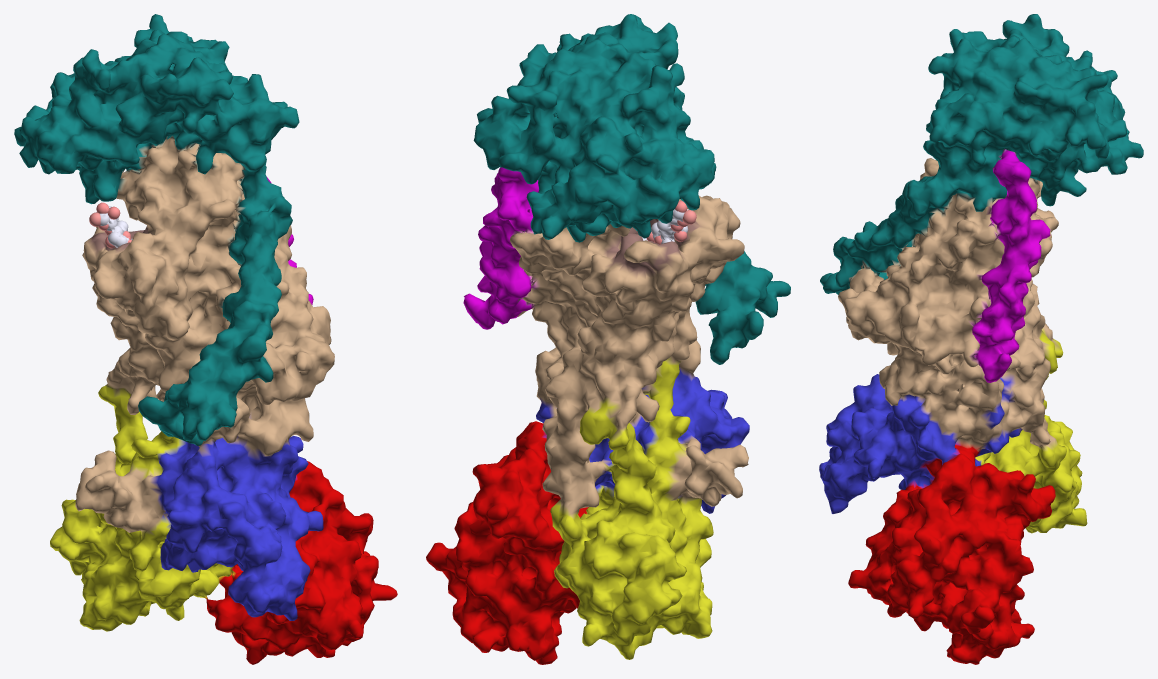
Rendered from na-k-atpase.glb.
The picture shows the model from 3 angles, left to right: view 1: azimuth 30°, elevation 25°; view 2: azimuth 150°, elevation 25°; view 3: azimuth 270°, elevation 25°; orthographic projection. The views are drawn at different scales.
Parts seen in each view (by area): view 1: Object_4, Object_7; view 2: Object_4, Object_7; view 3: Object_4.
Part boxes in pixels (bbox=[...]): Object_4: bbox=[14, 14, 397, 664]; Object_7: bbox=[96, 206, 132, 247]; Object_4: bbox=[426, 14, 790, 664]; Object_7: bbox=[642, 209, 688, 243]; Object_4: bbox=[819, 14, 1143, 664].
Bounding box in the file's own units: 81.24 × 162 × 83.73.
